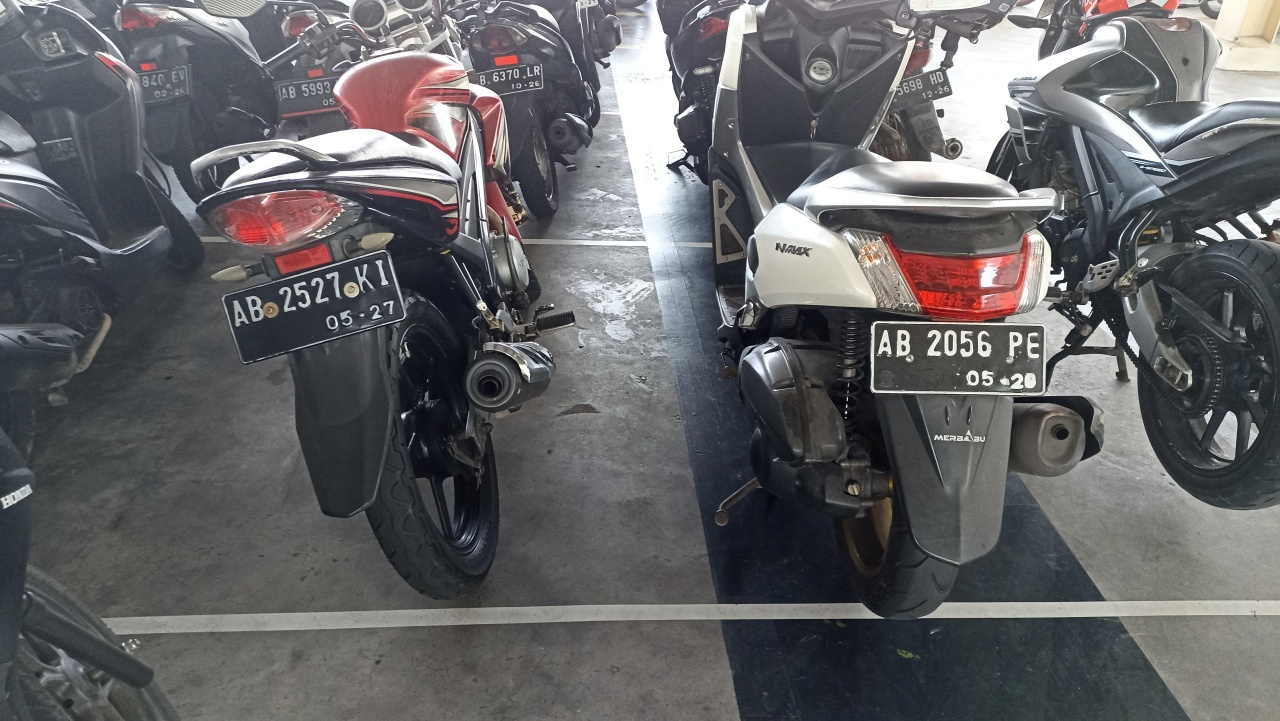plate: (223, 249, 406, 364), (871, 322, 1047, 396)
